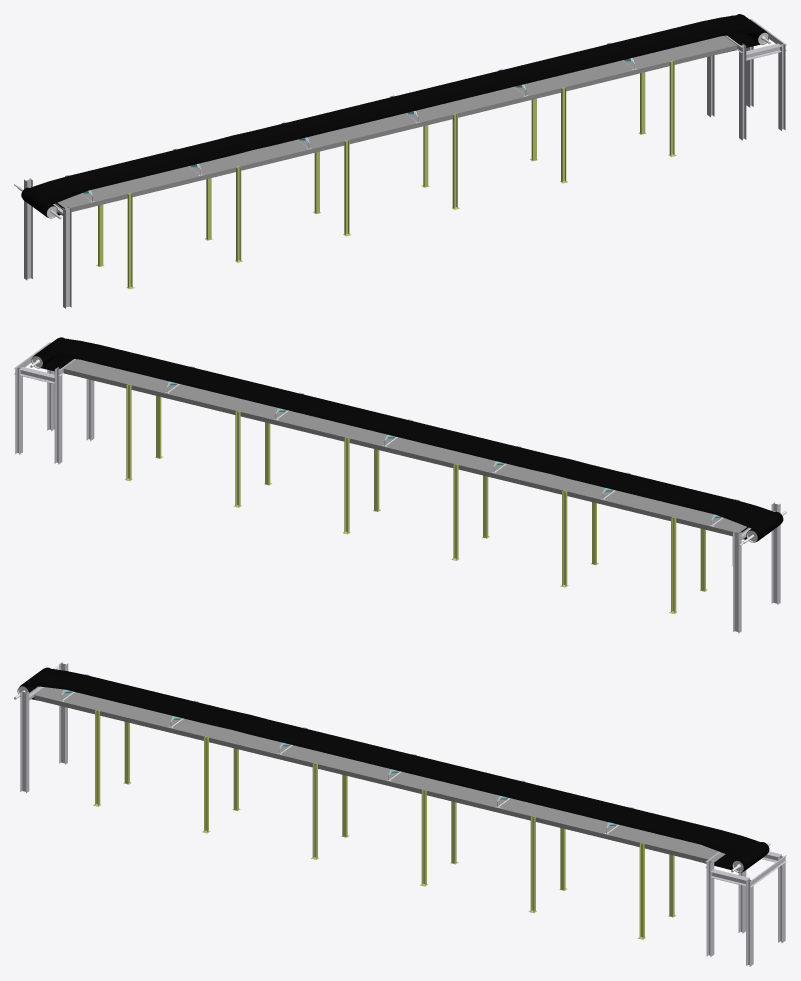
Rendered from conveyor_belt_small_EXPORT.glb.
The picture shows the model from 3 angles, top to bottom: view 1: azimuth 30°, elevation 25°; view 2: azimuth 150°, elevation 25°; view 3: azimuth 330°, elevation 25°; orthographic projection.
Visible parts, largest first — view 1: Solid043, CB_Small_Belt_Base, CB_Small_Belt_Pillars, CB_Small_Back_Roller_Pillar, CB_Small_Front_Roller_Pillar; view 2: Solid043, CB_Small_Belt_Base, CB_Small_Belt_Pillars, CB_Small_Back_Roller_Pillar, CB_Small_Front_Roller_Pillar; view 3: Solid043, CB_Small_Belt_Base, CB_Small_Belt_Pillars, CB_Small_Back_Roller_Pillar, CB_Small_Front_Roller_Pillar.
Part boxes in pixels (x1,y1,x2,y2): Solid043: (22, 14, 767, 217); CB_Small_Belt_Base: (57, 36, 737, 211); CB_Small_Belt_Pillars: (96, 60, 676, 289); CB_Small_Back_Roller_Pillar: (707, 18, 786, 140); CB_Small_Front_Roller_Pillar: (24, 178, 71, 308); Solid043: (33, 338, 782, 541); CB_Small_Belt_Base: (63, 359, 746, 536); CB_Small_Belt_Pillars: (125, 384, 707, 613); CB_Small_Back_Roller_Pillar: (14, 342, 94, 464); CB_Small_Front_Roller_Pillar: (732, 502, 780, 633); Solid043: (19, 668, 768, 871); CB_Small_Belt_Base: (34, 687, 718, 863); CB_Small_Belt_Pillars: (93, 710, 675, 939); CB_Small_Back_Roller_Pillar: (705, 851, 786, 966); CB_Small_Front_Roller_Pillar: (20, 662, 68, 793).
Bounding box in the file's own units: 2.84 × 0.3802 × 0.3071.
